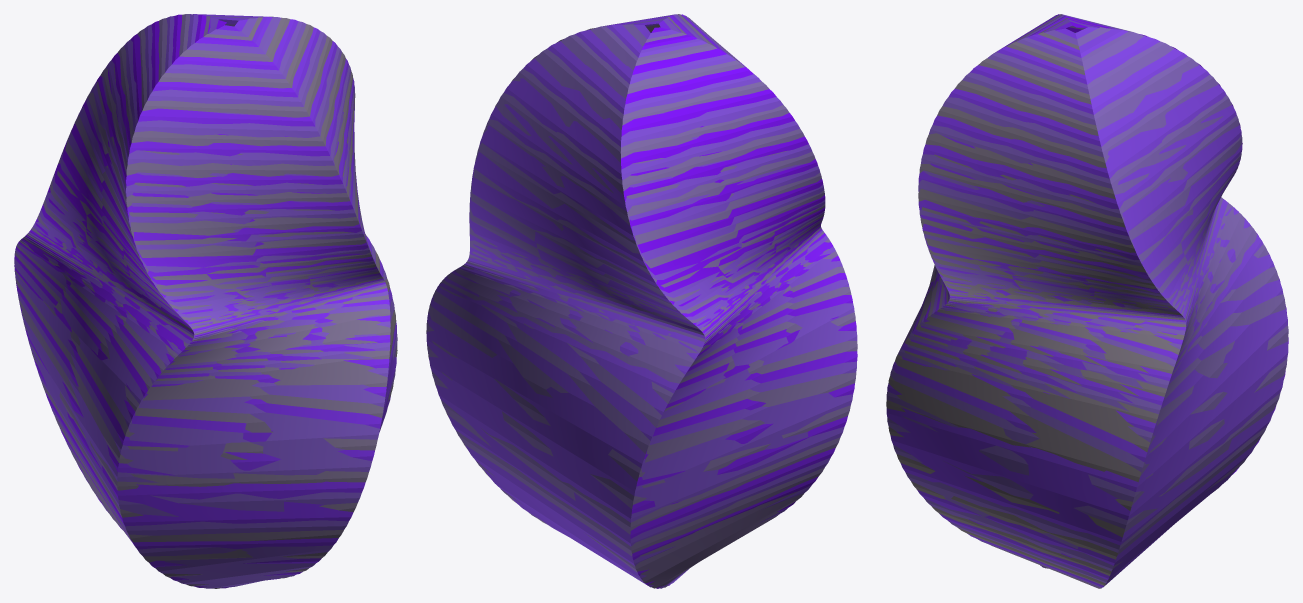
Rendered from NatalieCampos_Obj2.glb.
3 views of the same model, side by side, from view 1: azimuth 30°, elevation 25°; view 2: azimuth 150°, elevation 25°; view 3: azimuth 270°, elevation 25° (orthographic). The views are drawn at different scales.
Visible parts, largest first — view 1: Natalie_Campos-GalObj3; view 2: Natalie_Campos-GalObj3; view 3: Natalie_Campos-GalObj3.
Part boxes in pixels (x1,y1,x2,y2): Natalie_Campos-GalObj3: (14,14,397,588); Natalie_Campos-GalObj3: (426,14,857,588); Natalie_Campos-GalObj3: (886,14,1288,588).
Size of the model in its own units: 36.48 by 52.69 by 36.48.
